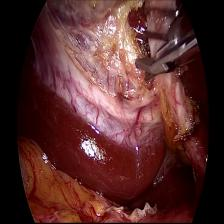Clipper: (131, 6, 206, 88)
